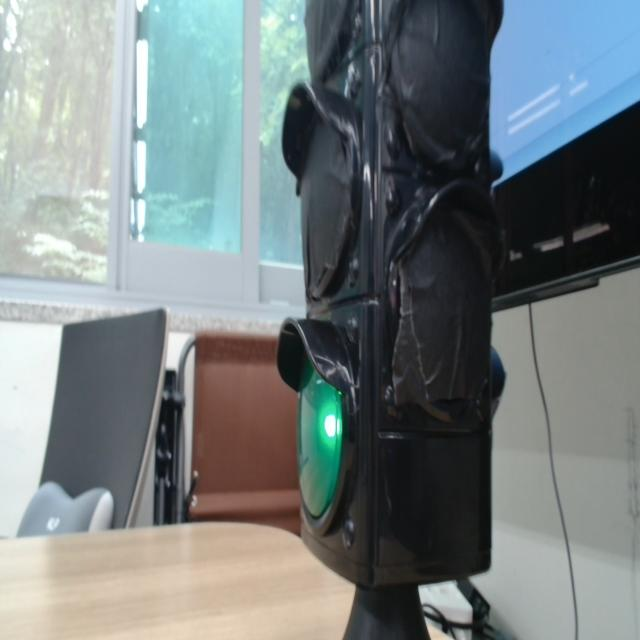green_light: (298, 360, 343, 517)
